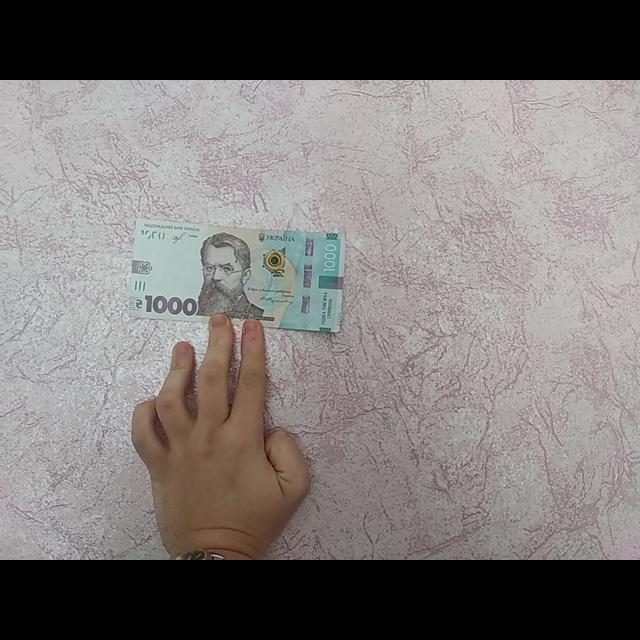1000uah: (127, 220, 346, 328)
